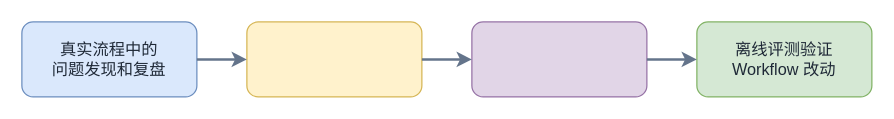
This 894x119 diagram has some shape labels left out. Here are the shapes that lost their labels. From the top down, the box of each, then its label:
(246, 21, 422, 97): 领域专家 低成本确认
(471, 21, 647, 97): 修改 Agent Workflow
